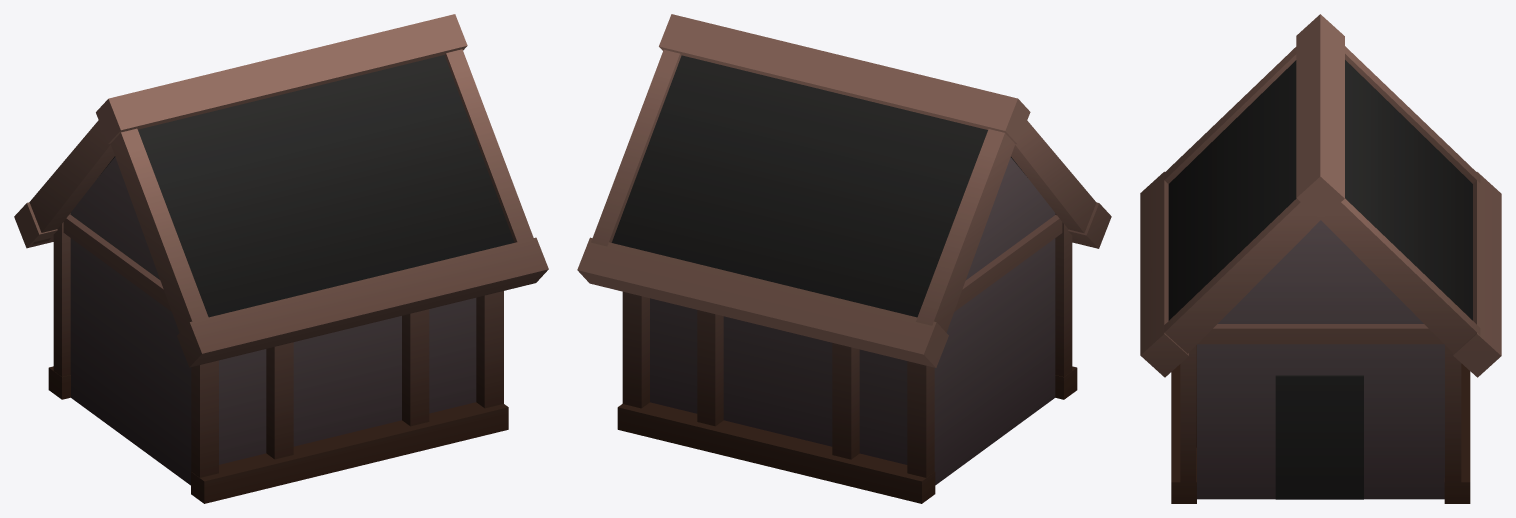
The model's file is Rumah 1.fbx.
3 renders of one model, left to right at view 1: azimuth 30°, elevation 25°; view 2: azimuth 150°, elevation 25°; view 3: azimuth 270°, elevation 25°, orthographic. The views are drawn at different scales.
Visible parts, largest first — view 1: Plane, Plane.001, Cube.009, Plane.003, Cube.011, Cube, Cube.003, Cube.008, Cube.006, Cube.004, Cube.007, Cube.013 (+1 smaller); view 2: Plane, Plane.001, Cube.010, Plane.003, Cube.011, Cube.014, Cube.005, Cube.007, Cube.002, Cube.001, Cube.008, Cube.013 (+1 smaller); view 3: Plane.001, Plane, Plane.003, Plane.002, Cube.011, Cube.009, Cube.010, Cube.012, Cube.005, Cube.006, Cube, Cube.014.
Boxes of the visible parts, bbox=[...] form: Plane: bbox=[101, 55, 514, 317]; Plane.001: bbox=[70, 157, 476, 485]; Cube.009: bbox=[177, 237, 548, 367]; Plane.003: bbox=[29, 49, 533, 332]; Cube.011: bbox=[96, 14, 467, 143]; Cube: bbox=[191, 402, 508, 503]; Cube.003: bbox=[402, 309, 429, 426]; Cube.008: bbox=[191, 360, 218, 477]; Cube.006: bbox=[476, 291, 503, 408]; Cube.004: bbox=[266, 342, 293, 459]; Cube.007: bbox=[53, 213, 70, 376]; Cube.013: bbox=[63, 215, 171, 311]; Plane: bbox=[611, 55, 1027, 317]; Plane.001: bbox=[650, 157, 1055, 485]; Cube.010: bbox=[577, 237, 948, 367]; Plane.003: bbox=[591, 49, 1096, 332]; Cube.011: bbox=[659, 14, 1030, 144]; Cube.014: bbox=[617, 402, 935, 503]; Cube.005: bbox=[622, 291, 649, 408]; Cube.007: bbox=[907, 361, 934, 477]; Cube.002: bbox=[832, 343, 859, 459]; Cube.001: bbox=[697, 310, 723, 426]; Cube.008: bbox=[1055, 213, 1072, 376]; Cube.013: bbox=[954, 215, 1062, 311]; Plane.001: bbox=[1197, 220, 1444, 499]; Plane: bbox=[1168, 60, 1472, 320]; Plane.003: bbox=[1164, 46, 1480, 353]; Plane.002: bbox=[1275, 375, 1363, 499]; Cube.011: bbox=[1296, 14, 1344, 219]; Cube.009: bbox=[1140, 171, 1188, 377]; Cube.010: bbox=[1453, 172, 1501, 377]; Cube.012: bbox=[1197, 324, 1443, 344]; Cube.005: bbox=[1445, 345, 1461, 482]; Cube.006: bbox=[1180, 345, 1196, 482]; Cube: bbox=[1171, 364, 1196, 503]; Cube.014: bbox=[1444, 363, 1470, 503].
Size of the model in its own units: 198 by 192 by 186.
